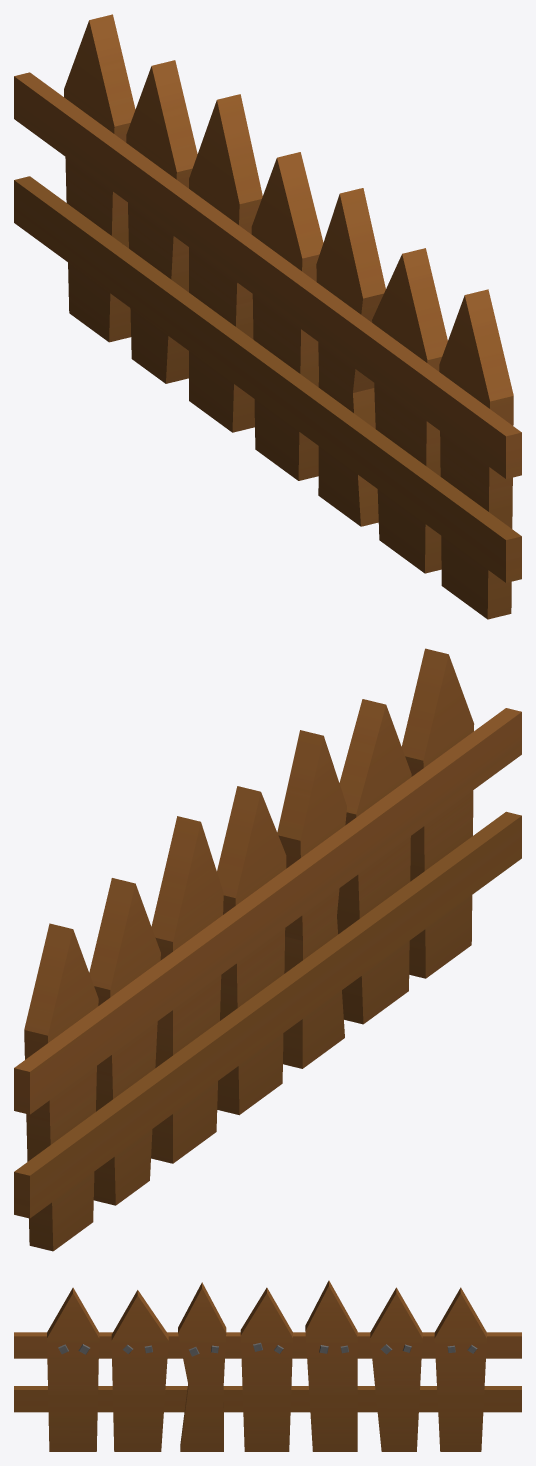
File: Fence_1_B_1.glb
The picture shows the model from 3 angles, top to bottom: view 1: azimuth 30°, elevation 25°; view 2: azimuth 150°, elevation 25°; view 3: azimuth 270°, elevation 25°; orthographic projection. The views are drawn at different scales.
Parts seen in each view (by area): view 1: Fence_1_B_1; view 2: Fence_1_B_1; view 3: Fence_1_B_1.
Part boxes in pixels (box(x1,y1,x2,y2)): Fence_1_B_1: box(14, 14, 521, 619); Fence_1_B_1: box(14, 648, 521, 1251); Fence_1_B_1: box(14, 1280, 521, 1451).
Bounding box in the file's own units: 0.0986 × 0.711 × 1.97.
Materials: 2 (2 with a texture image).
